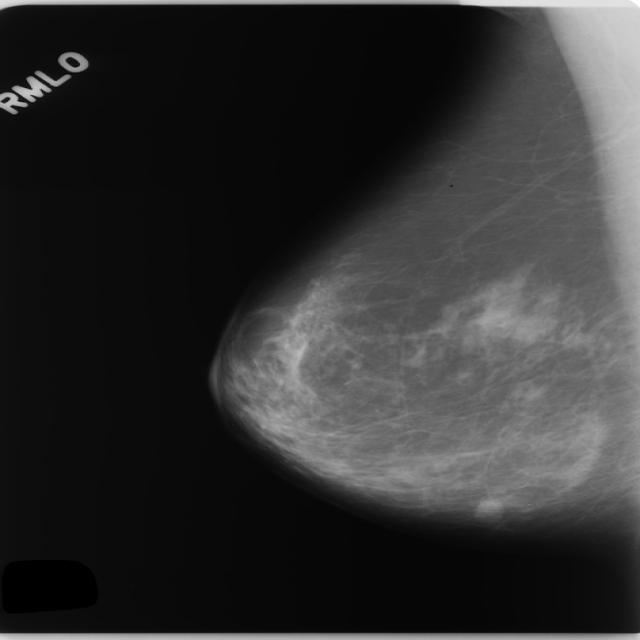tumour: (473, 498, 503, 524)
